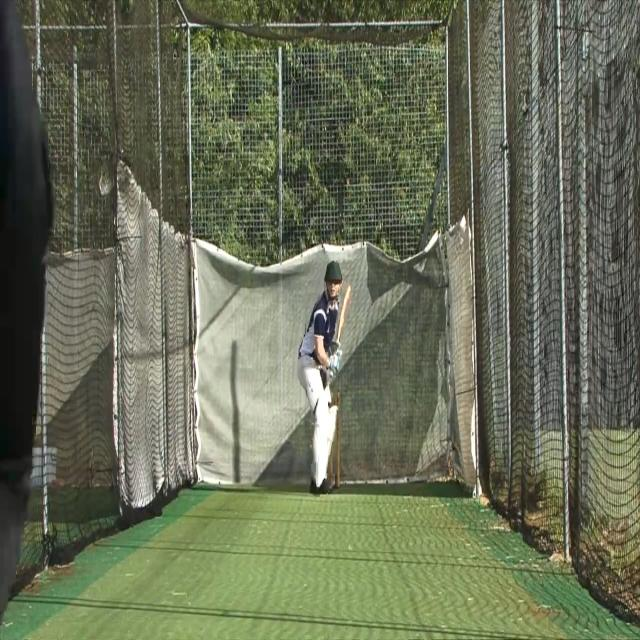batsman: (296, 257, 352, 497)
